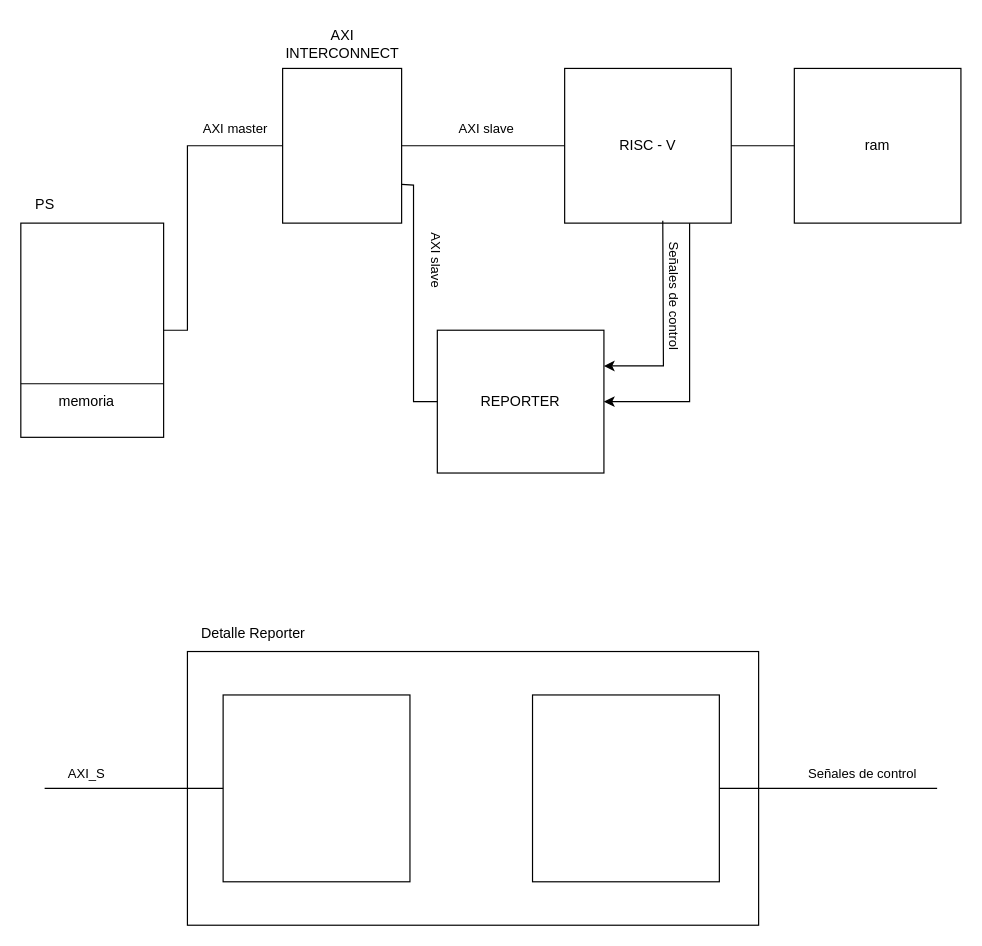
Image size: 982x946. Some labels were removed from this diagram. The shapes that lost their labels are listed below. From the top down, each one's centre as x and y in pixels, then its label:
At point (316, 788): "Banco de registros Reporter".
At point (625, 788): "Control y estado de señales del procesador".
